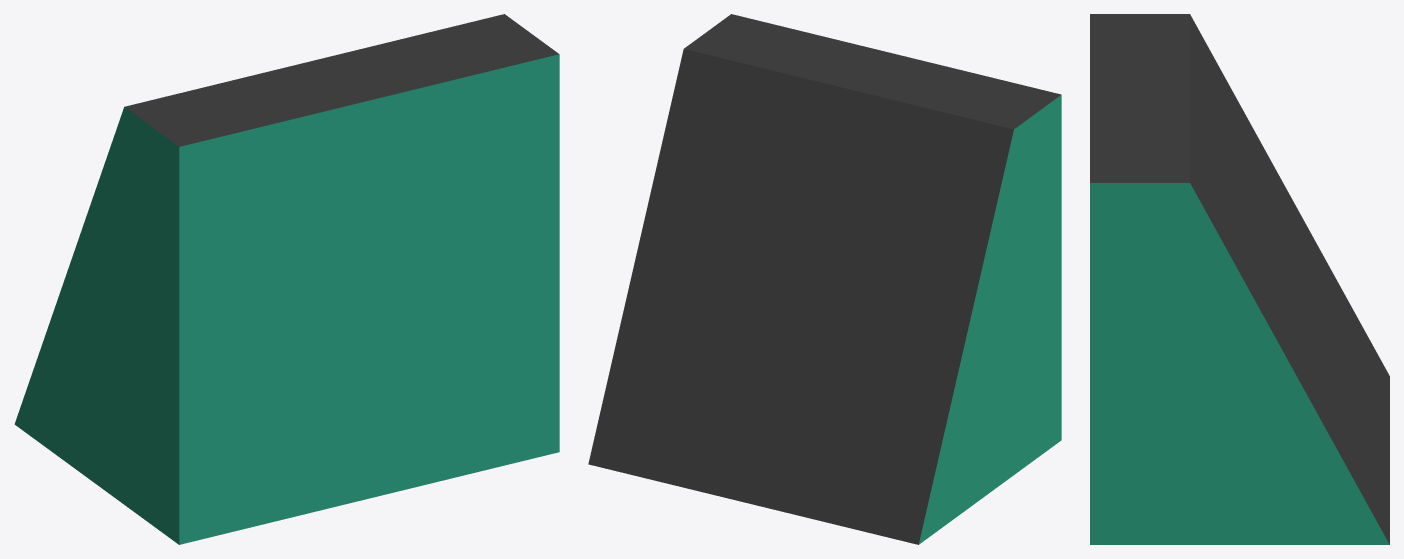
File: roof.fbx
3 views of the same model, side by side, from view 1: azimuth 30°, elevation 25°; view 2: azimuth 150°, elevation 25°; view 3: azimuth 270°, elevation 25° (orthographic). The views are drawn at different scales.
Parts seen in each view (by area): view 1: House_mesh; view 2: House_mesh; view 3: House_mesh.
Boxes of the visible parts, <box> form: House_mesh: <box>14,14,559,544</box>; House_mesh: <box>588,14,1061,544</box>; House_mesh: <box>1090,14,1389,544</box>.
Size of the model in its own units: 2 by 2 by 1.5.
Materials: 1 (1 with a texture image).
